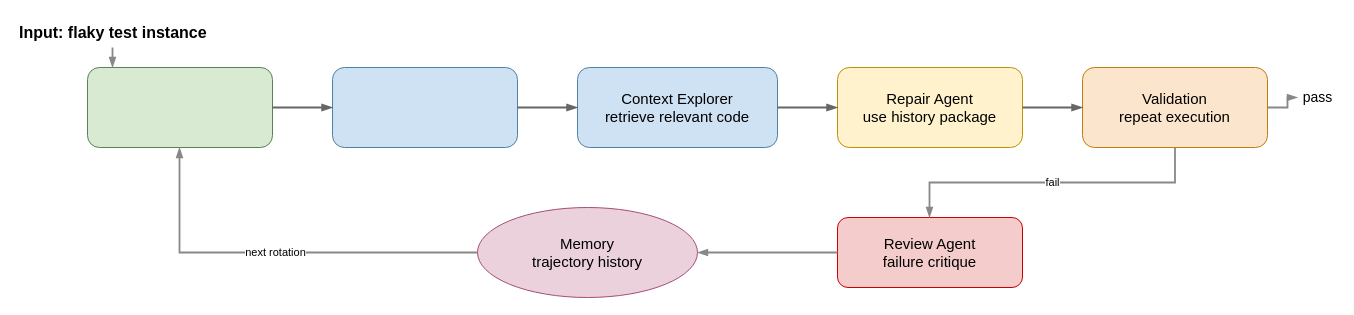
This 1354x315 diagram has some shape labels left out. Each missing label, with the centre of its shape:
"Detection Agent classify flaky type" belongs at [425,107].
"Orchestrator controller" belongs at [179,107].
